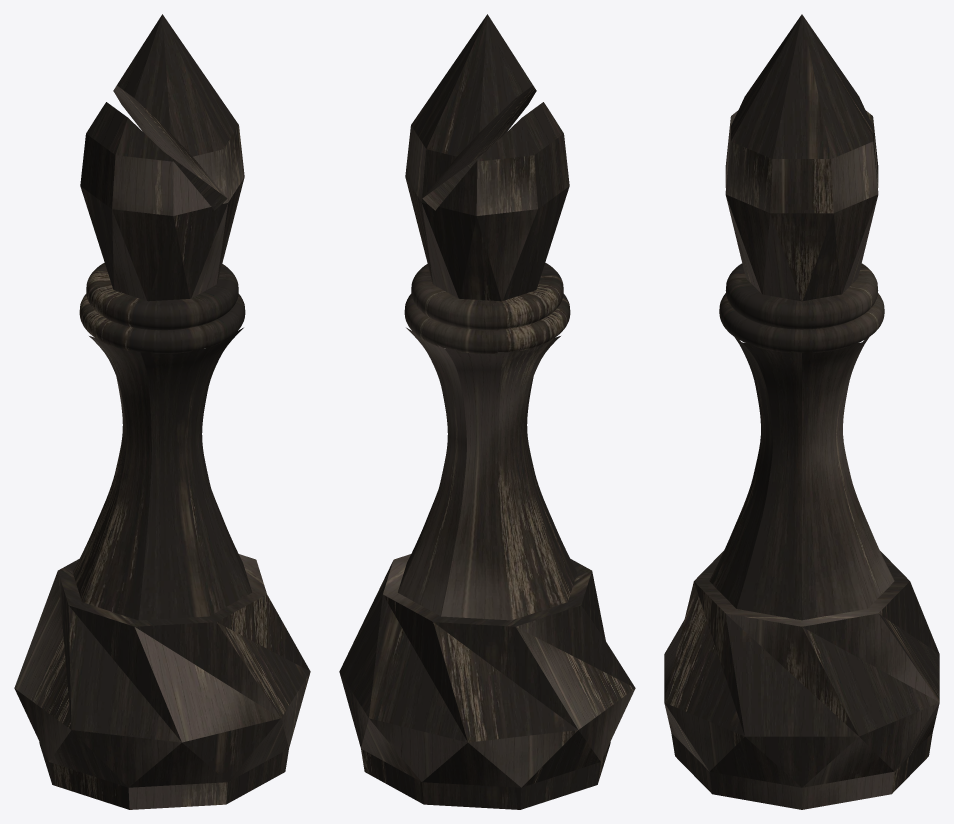
The model's file is bishop-black.glb.
3 renders of one model, left to right at view 1: azimuth 30°, elevation 25°; view 2: azimuth 150°, elevation 25°; view 3: azimuth 270°, elevation 25°, orthographic.
Visible parts, largest first — view 1: Lithoxyl_Bishop_Onyx; view 2: Lithoxyl_Bishop_Onyx; view 3: Lithoxyl_Bishop_Onyx.
Part boxes in pixels (x1,y1,x2,y2): Lithoxyl_Bishop_Onyx: (14, 14, 310, 809); Lithoxyl_Bishop_Onyx: (339, 14, 635, 809); Lithoxyl_Bishop_Onyx: (664, 14, 939, 809).
Size of the model in its own units: 0.4372 by 1.3 by 0.4372.
1 material, 1 textured.
